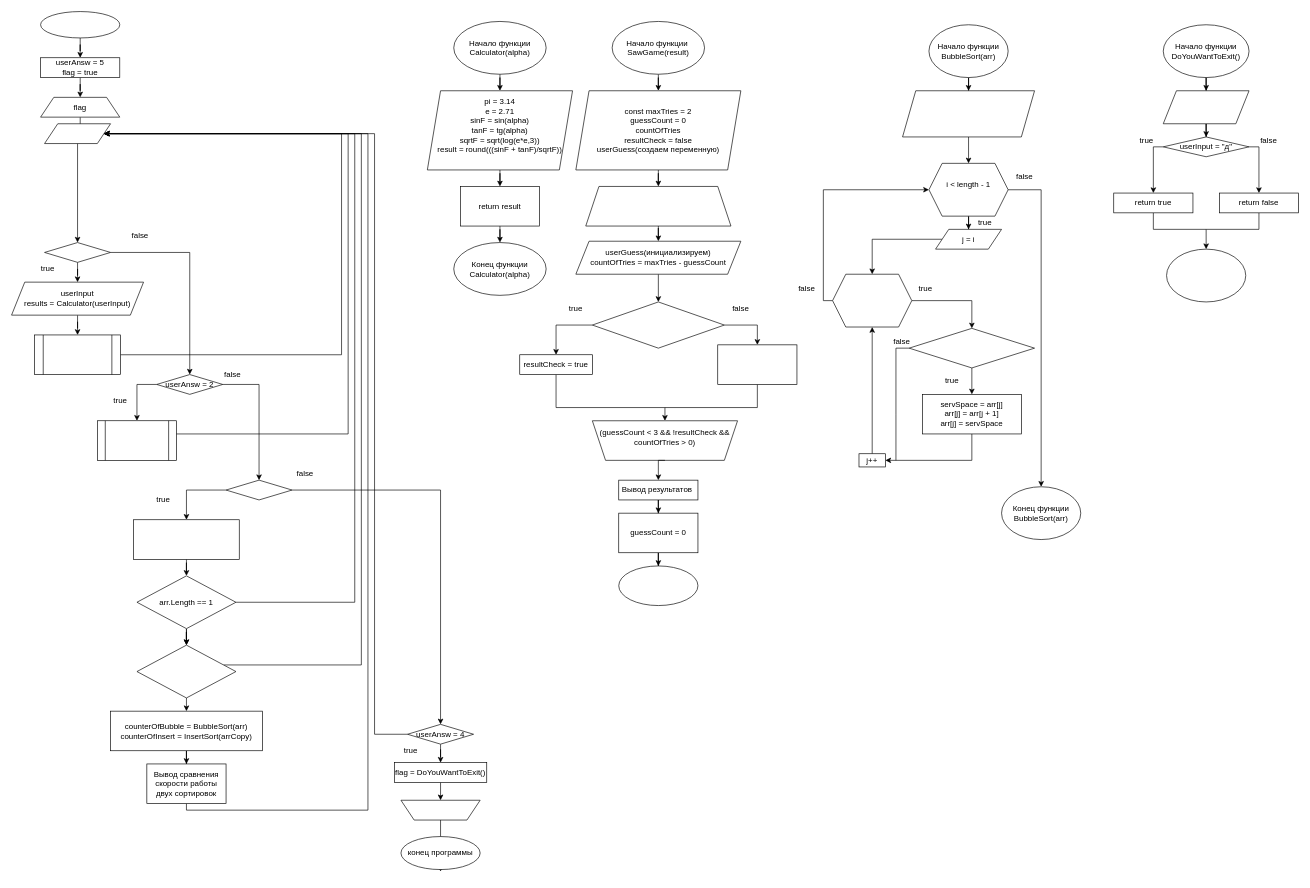
This 1310x888 diagram has some shape labels left out. The shapes that lost their labels are listed below. From the top down, each one's centre as x and y in pixels, then its label:
pixel 80 24: начало программы
pixel 968 113: servSpace(объявляем) count = 0 length = arr.Length i = 0
pixel 1206 107: userInput(может быть равно либо "д", либо "н")
pixel 77 133: userAnsw
pixel 77 252: userAnsw = 1
pixel 1206 275: Конец функции DoYouWantToExit()
pixel 872 300: j < length - 1
pixel 658 324: userGuess = result
pixel 77 354: SawGame(results)
pixel 757 364: Вывод ко-ва ост. попыток, равного countOfTries
pixel 971 348: arr[j] > arr[j + 1]
pixel 137 440: Introduce()
pixel 258 489: userAnsw = 3
pixel 186 539: arr = ArraySummoning() arrCopy = ArrayCopyCat(arr)
pixel 658 585: конец функции SawGame(result)
pixel 186 671: arr.Length>9
